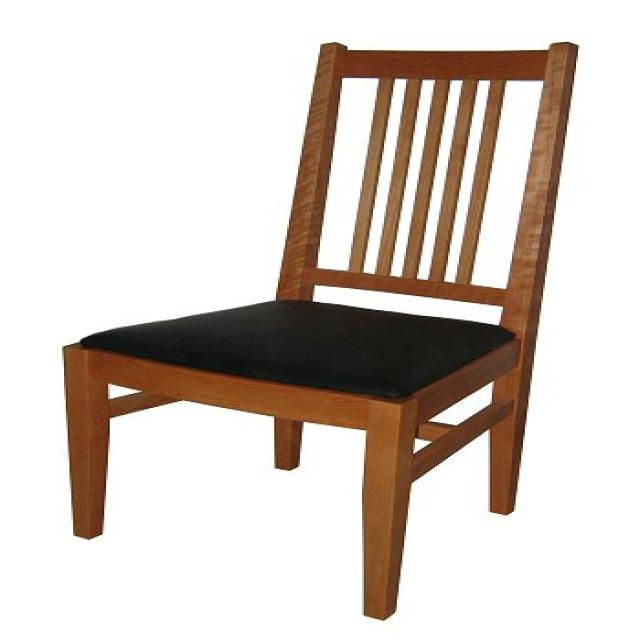chair: (55, 39, 583, 622)
